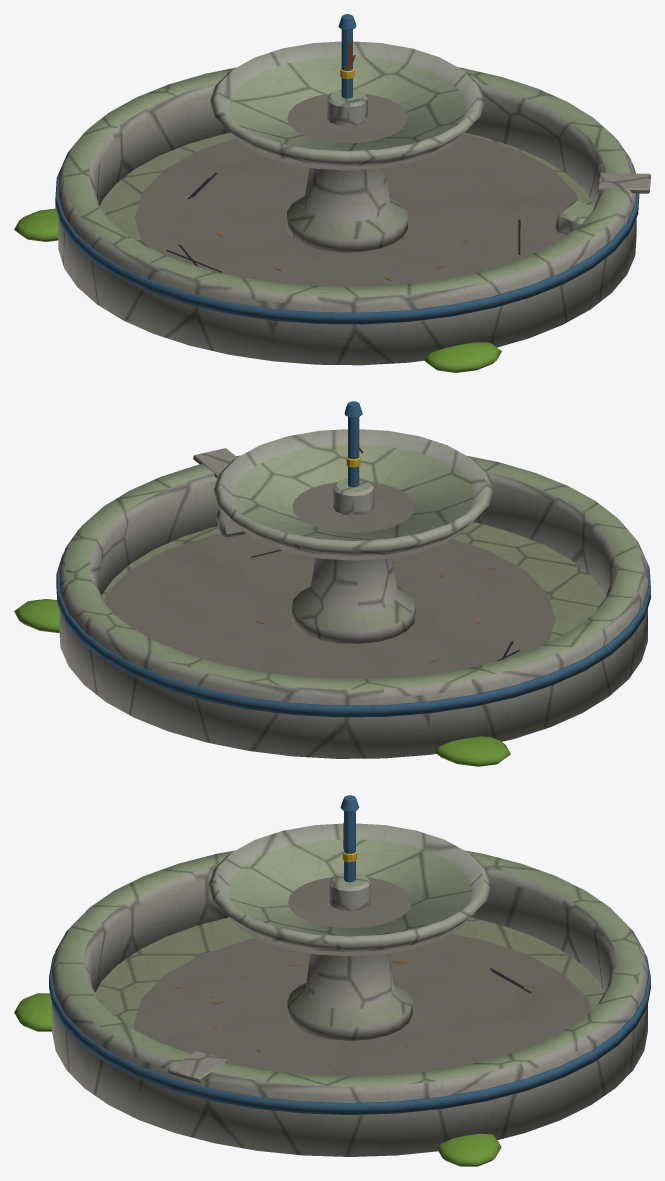
The model's file is fountain_dry.glb.
3 views of the same model, one above another, from view 1: azimuth 30°, elevation 25°; view 2: azimuth 150°, elevation 25°; view 3: azimuth 270°, elevation 25° (orthographic). The views are drawn at different scales.
Visible parts, largest first — view 1: fountain_dry; view 2: fountain_dry; view 3: fountain_dry.
Boxes of the visible parts, x1,y1,x2,y2 form: fountain_dry: (14,14,650,372); fountain_dry: (14,401,650,766); fountain_dry: (14,795,650,1166).
Size of the model in its own units: 4.18 by 1.78 by 4.27.
Materials: 11 (11 with a texture image).
